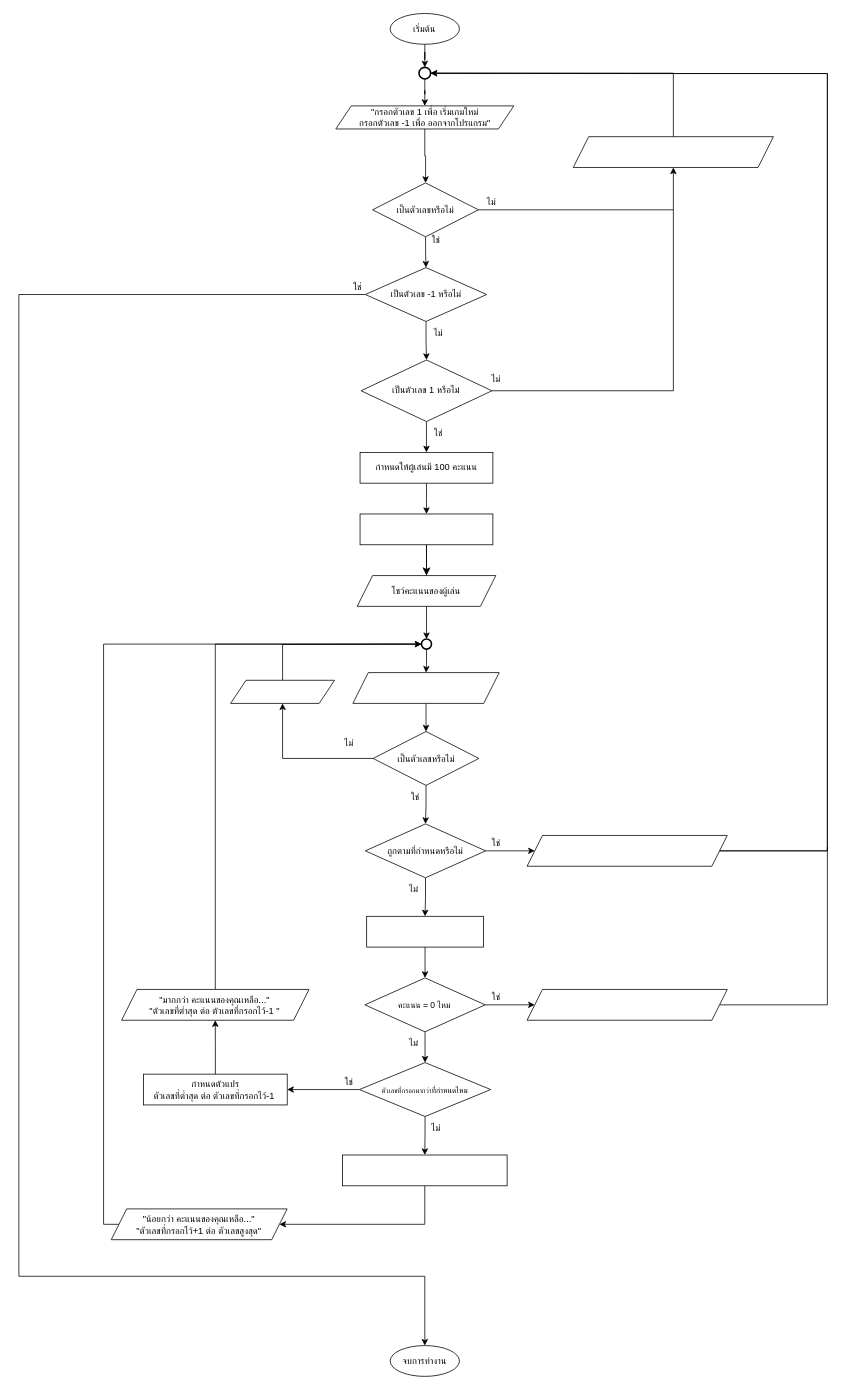
This 847x1390 diagram has some shape labels left out. The centre of each missing label's shape, as x and y in pixels:
"กรุณาใส่แต่ตัวเลข 1 หรือ -1 เท่านั้น": (x=672, y=151)
"กรุณาใส่แต่ตัวเลข": (x=282, y=691)
"คะแนนของคุณหมดแล้วเกมจบลง": (x=626, y=1004)
"ยินดีด้วย คุณทายถูกต้อง คะแนนของคุณคือ": (x=626, y=850)
กรอกตัวเลขที่ให้ทาย 1-100: (x=425, y=687)
กำหนดตัวแปร ตัวเลขที่กรอกไว้+1 ต่อ ตัวเลขสูงสุด: (x=424, y=1170)
ลบคะแนนผู้เล่น 10 คะแนน: (x=424, y=931)
สุ่มกำหนดตัวเลข 1 ถึง 100: (x=426, y=529)
